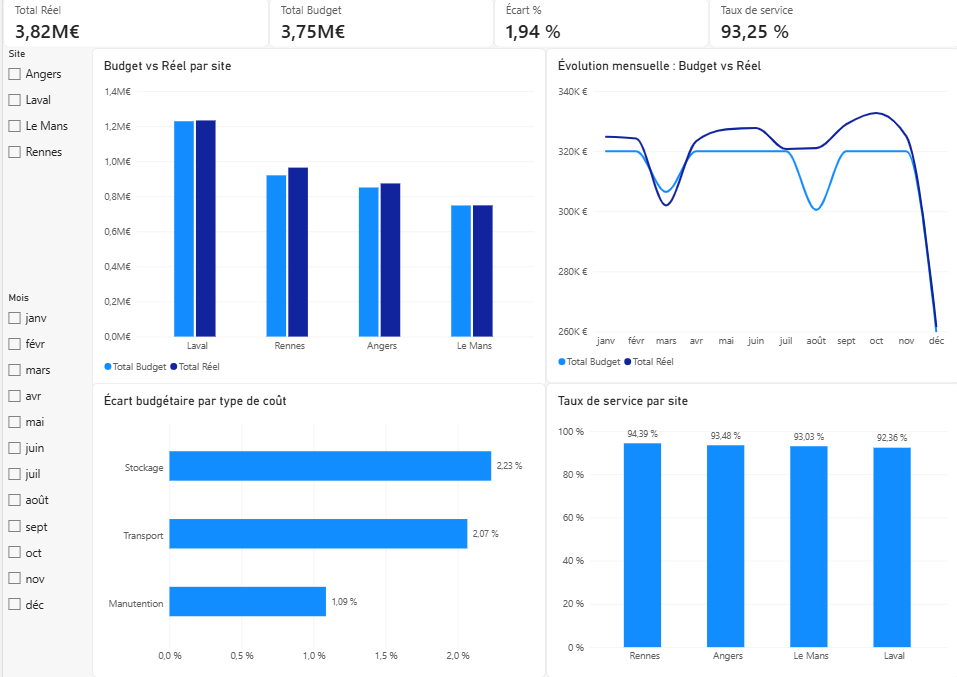

The page's visual inventory and layout, read from the dashboard file:
{"tool":"powerbi","page":{"name":"Tableau de bord","canvas":[1920,1080],"ordinal":1},"visuals":[{"type":"textbox","box":[10,0,280,280],"z":0},{"type":"textbox","box":[0,0,1763.9,1079.6],"z":1000},{"type":"cardVisual","fields":{"Data":["Couts.Total Réel"]},"box":[0,67.1,388.1,72.9],"z":2000},{"type":"cardVisual","fields":{"Data":["Couts.Total Budget"]},"box":[388.1,67.1,328.3,72.9],"z":3000},{"type":"cardVisual","fields":{"Data":["Couts.Écart %"]},"box":[716.4,67.1,313.7,72.9],"z":4000},{"type":"cardVisual","fields":{"Data":["Livraisons.Taux de service"]},"box":[1030,67.1,366.2,72.9],"z":5000},{"type":"slicer","fields":{"Values":["Dim_Site.Site"]},"box":[0,140.1,280.1,237.8],"z":6000},{"type":"slicer","fields":{"Values":["Calendrier.Nom_mois"]},"box":[0,496,129.8,478.5],"z":7000},{"type":"clusteredColumnChart","title":"Budget vs Réel par site","fields":{"Category":["Dim_Site.Site"],"Y":["Couts.Total Budget","Couts.Total Réel"]},"box":[129.8,140.1,662.4,496],"z":8000},{"type":"lineChart","title":"Évolution mensuelle : Budget vs Réel","fields":{"Category":["Calendrier.Nom_mois"],"Y":["Couts.Total Budget","Couts.Total Réel"]},"box":[792.2,140.1,604,488.8],"z":8001},{"type":"barChart","title":"Écart budgétaire par type de coût","fields":{"Category":["Couts.Type_cout"],"Y":["Couts.Écart %"]},"box":[129.8,628.8,662.4,430.4],"z":8002},{"type":"clusteredColumnChart","title":"Taux de service par site","fields":{"Category":["Dim_Site.Site"],"Y":["Livraisons.Taux de service"]},"box":[792.2,628.8,604,430.4],"z":8003}]}

Visuals, with their boxes on the page's 1920x1080 design canvas (x1, y1, x2, y2). These are canvas units, not pixel positions in the 957x677 screenshot, which may show the page scaled, cropped or inside an application window:
textbox: [left=10, top=0, right=290, bottom=280]
textbox: [left=0, top=0, right=1764, bottom=1080]
cardVisual - Couts.Total Réel: [left=0, top=67, right=388, bottom=140]
cardVisual - Couts.Total Budget: [left=388, top=67, right=716, bottom=140]
cardVisual - Couts.Écart %: [left=716, top=67, right=1030, bottom=140]
cardVisual - Livraisons.Taux de service: [left=1030, top=67, right=1396, bottom=140]
slicer - Dim_Site.Site: [left=0, top=140, right=280, bottom=378]
slicer - Calendrier.Nom_mois: [left=0, top=496, right=130, bottom=974]
"Budget vs Réel par site" clusteredColumnChart: [left=130, top=140, right=792, bottom=636]
"Évolution mensuelle : Budget vs Réel" lineChart: [left=792, top=140, right=1396, bottom=629]
"Écart budgétaire par type de coût" barChart: [left=130, top=629, right=792, bottom=1059]
"Taux de service par site" clusteredColumnChart: [left=792, top=629, right=1396, bottom=1059]
